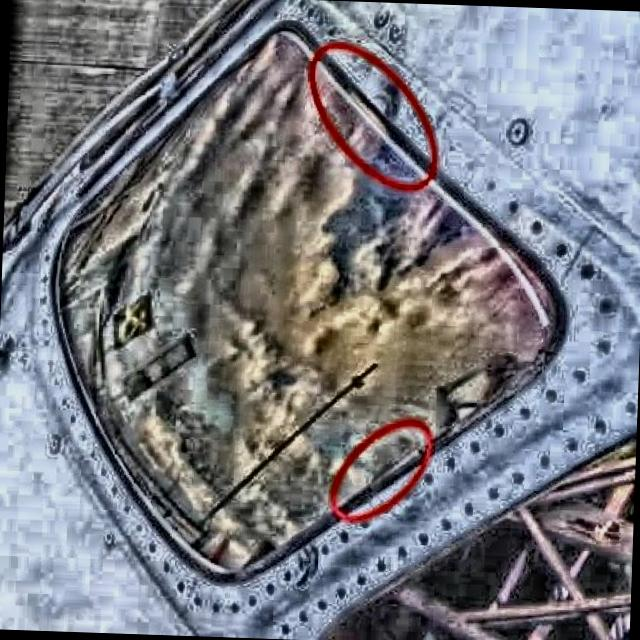crack: (296, 540, 322, 590)
